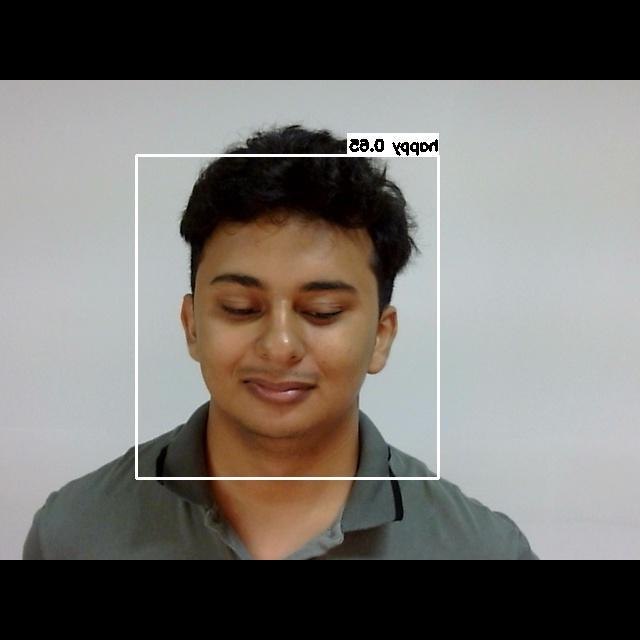Happy: (188, 238, 382, 434)
